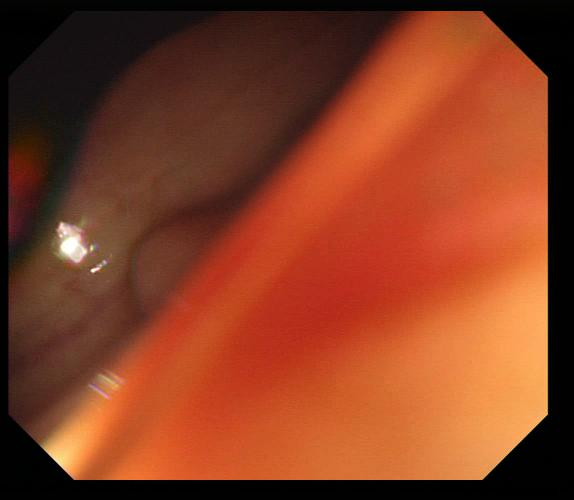polyp: (130, 199, 237, 326)
